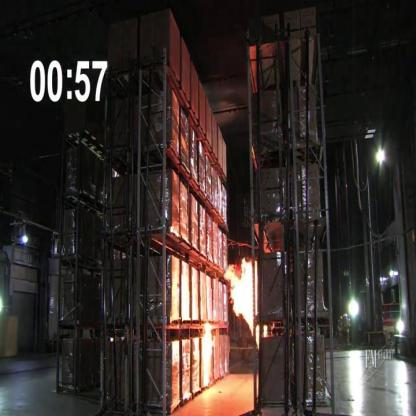fire: (226, 260, 269, 348), (201, 320, 213, 392)
